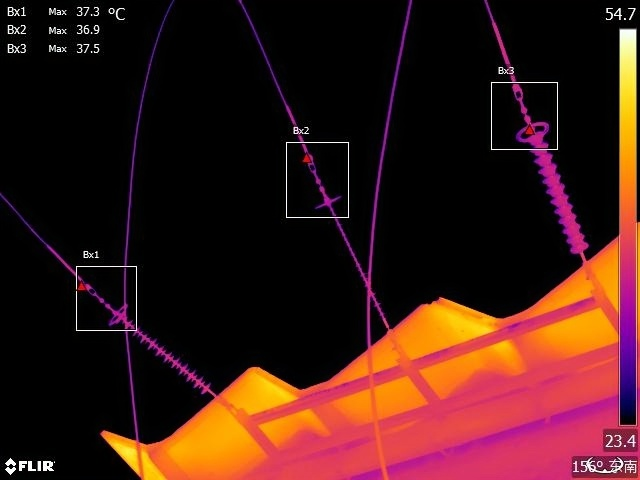insulator: (315, 187, 402, 349), (517, 111, 590, 261), (106, 300, 215, 395)
